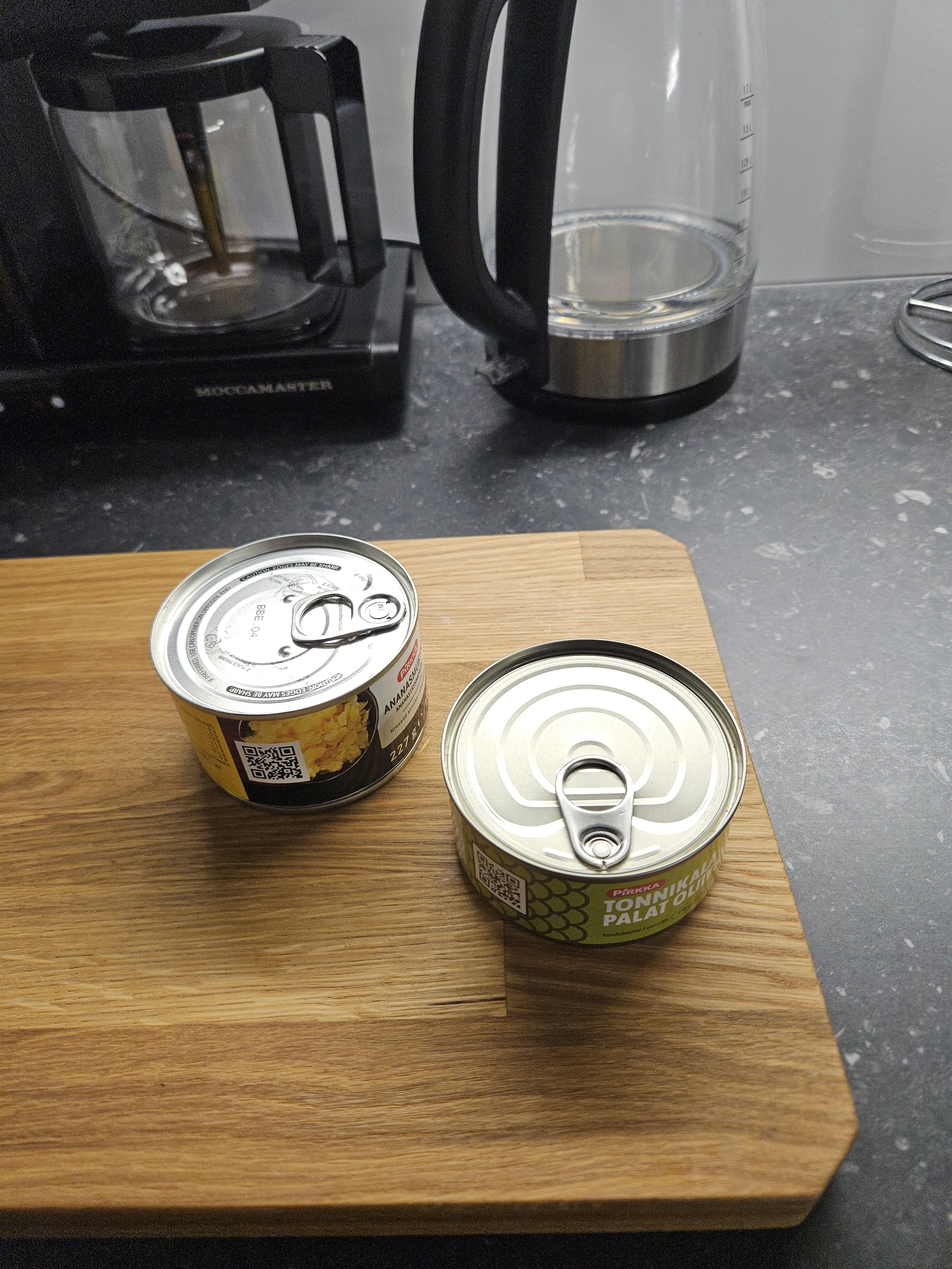Konservburk: (435, 638, 756, 947), (130, 531, 432, 817)
